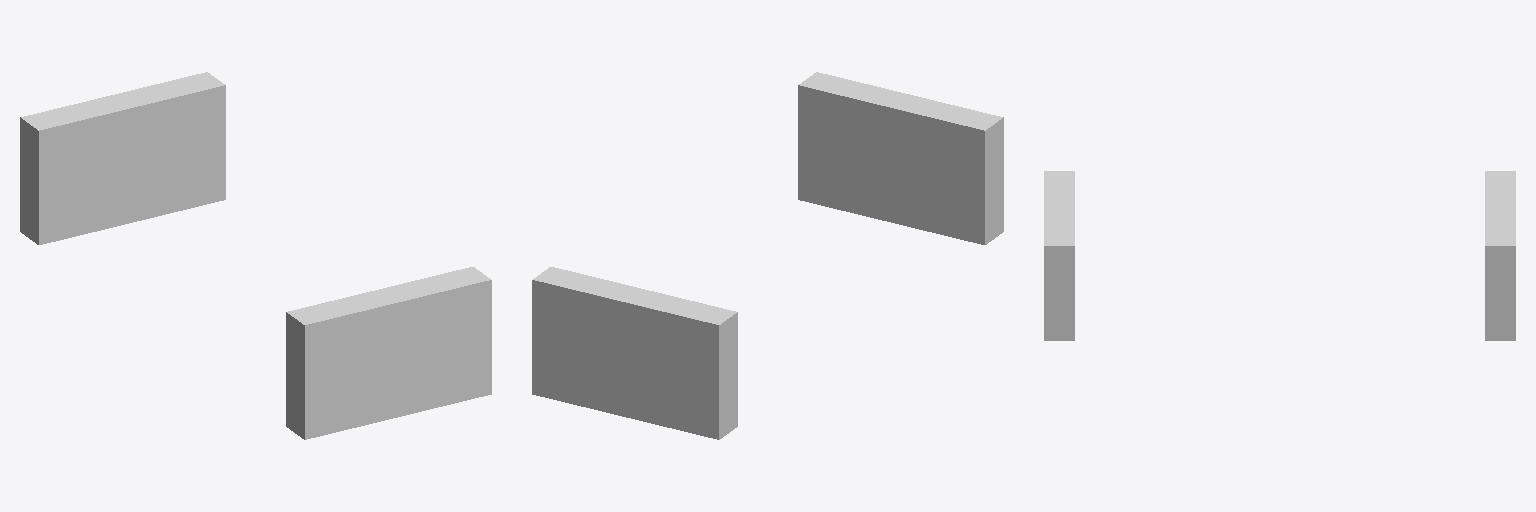
The robot description file, URDF, robot "robot":
<robot name="">
	<link name="base_link">
		<inertial>
			<origin rpy="0.00000 -0.00000 0.00000" xyz="-0.02780 0.00039 0.14035" />
			<mass value="1572.90000" />
			<inertia ixx="147.38224" ixy="0" ixz="0" iyy="202.17262" iyz="0" izz="319.78450" />
		</inertial>
		<visual>
			<origin rpy="-1.57080 0.00000 0.00000" xyz="0.00000 0.00000 0.00000" />
			<geometry>
				<mesh filename="rlbotics/envs/models/robots/kuka/kr210/meshes/kr210l150/visual/base_link.stl" scale="1.00000 1.00000 1.00000" />
			</geometry>
			<material name="0">
				<color rgba="0.05490 0.14510 0.20000 1.00000" />
			</material>
		</visual>
		<collision>
			<origin rpy="-1.57080 0.00000 0.00000" xyz="0.00000 0.00000 0.00000" />
			<geometry>
				<mesh filename="rlbotics/envs/models/robots/kuka/kr210/meshes/kr210l150/collision/base_link.stl" scale="1.00000 1.00000 1.00000" />
			</geometry>
		</collision>
	</link>
	<link name="link_1">
		<inertial>
			<origin rpy="0.00000 -0.00000 0.00000" xyz="-0.03681 -0.02470 0.56577" />
			<mass value="1385.50000" />
			<inertia ixx="150.64281" ixy="0" ixz="0" iyy="203.49709" iyz="0" izz="250.48282" />
		</inertial>
		<visual>
			<origin rpy="0.00000 -0.00000 0.00000" xyz="0.00000 0.00000 0.00000" />
			<geometry>
				<mesh filename="rlbotics/envs/models/robots/kuka/kr210/meshes/kr210l150/visual/link_1.stl" scale="1.00000 1.00000 1.00000" />
			</geometry>
			<material name="1">
				<color rgba="0.94902 0.36078 0.09804 1.00000" />
			</material>
		</visual>
		<collision>
			<origin rpy="0.00000 -0.00000 0.00000" xyz="0.00000 0.00000 0.00000" />
			<geometry>
				<mesh filename="rlbotics/envs/models/robots/kuka/kr210/meshes/kr210l150/collision/link_1.stl" scale="1.00000 1.00000 1.00000" />
			</geometry>
		</collision>
	</link>
	<link name="link_2">
		<inertial>
			<origin rpy="0.00000 -0.00000 0.00000" xyz="0.01692 -0.19196 0.44751" />
			<mass value="958.62000" />
			<inertia ixx="242.63225" ixy="0" ixz="0" iyy="241.46543" iyz="0" izz="38.45678" />
		</inertial>
		<visual>
			<origin rpy="-1.57080 0.00000 0.00000" xyz="0.00000 0.00000 0.00000" />
			<geometry>
				<mesh filename="rlbotics/envs/models/robots/kuka/kr210/meshes/kr210l150/visual/link_2.stl" scale="1.00000 1.00000 1.00000" />
			</geometry>
			<material name="2">
				<color rgba="0.94902 0.36078 0.09804 1.00000" />
			</material>
		</visual>
		<collision>
			<origin rpy="0.00000 -0.00000 0.00000" xyz="0.00000 0.00000 0.00000" />
			<geometry>
				<mesh filename="rlbotics/envs/models/robots/kuka/kr210/meshes/kr210l150/collision/link_2.stl" scale="1.00000 1.00000 1.00000" />
			</geometry>
		</collision>
	</link>
	<link name="link_3">
		<inertial>
			<origin rpy="0.00000 -0.00000 0.00000" xyz="0.18842 0.18344 -0.04280" />
			<mass value="710.03000" />
			<inertia ixx="31.03103" ixy="0" ixz="0" iyy="128.15244" iyz="0" izz="124.72848" />
		</inertial>
		<visual>
			<origin rpy="-1.57080 0.00000 0.00000" xyz="0.00000 0.00000 0.00000" />
			<geometry>
				<mesh filename="rlbotics/envs/models/robots/kuka/kr210/meshes/kr210l150/visual/link_3.stl" scale="1.00000 1.00000 1.00000" />
			</geometry>
			<material name="3">
				<color rgba="0.94902 0.36078 0.09804 1.00000" />
			</material>
		</visual>
		<collision>
			<origin rpy="0.00000 -0.00000 0.00000" xyz="0.00000 0.00000 0.00000" />
			<geometry>
				<mesh filename="rlbotics/envs/models/robots/kuka/kr210/meshes/kr210l150/collision/link_3.stl" scale="1.00000 1.00000 1.00000" />
			</geometry>
		</collision>
	</link>
	<link name="link_4">
		<inertial>
			<origin rpy="0.00000 -0.00000 0.00000" xyz="0.27146 -0.00733 0.00005" />
			<mass value="173.73000" />
			<inertia ixx="2.59544" ixy="0" ixz="0" iyy="7.06362" iyz="0" izz="7.87822" />
		</inertial>
		<visual>
			<origin rpy="-1.57080 0.00000 0.00000" xyz="0.00000 0.00000 0.00000" />
			<geometry>
				<mesh filename="rlbotics/envs/models/robots/kuka/kr210/meshes/kr210l150/visual/link_4.stl" scale="1.00000 1.00000 1.00000" />
			</geometry>
			<material name="4">
				<color rgba="0.94902 0.36078 0.09804 1.00000" />
			</material>
		</visual>
		<collision>
			<origin rpy="0.00000 -0.00000 0.00000" xyz="0.00000 0.00000 0.00000" />
			<geometry>
				<mesh filename="rlbotics/envs/models/robots/kuka/kr210/meshes/kr210l150/collision/link_4.stl" scale="1.00000 1.00000 1.00000" />
			</geometry>
		</collision>
	</link>
	<link name="link_5">
		<inertial>
			<origin rpy="0.00000 -0.00000 0.00000" xyz="0.04379 0.02598 0.00000" />
			<mass value="72.17000" />
			<inertia ixx="0.72730" ixy="0" ixz="0" iyy="0.97404" iyz="0" izz="0.97344" />
		</inertial>
		<visual>
			<origin rpy="-1.57080 0.00000 0.00000" xyz="0.00000 0.00000 0.00000" />
			<geometry>
				<mesh filename="rlbotics/envs/models/robots/kuka/kr210/meshes/kr210l150/visual/link_5.stl" scale="1.00000 1.00000 1.00000" />
			</geometry>
			<material name="5">
				<color rgba="0.94902 0.36078 0.09804 1.00000" />
			</material>
		</visual>
		<collision>
			<origin rpy="0.00000 -0.00000 0.00000" xyz="0.00000 0.00000 0.00000" />
			<geometry>
				<mesh filename="rlbotics/envs/models/robots/kuka/kr210/meshes/kr210l150/collision/link_5.stl" scale="1.00000 1.00000 1.00000" />
			</geometry>
		</collision>
	</link>
	<link name="link_6">
		<inertial>
			<origin rpy="0.00000 -0.00000 0.00000" xyz="-0.01796 -0.00002 0.00015" />
			<mass value="6.31540" />
			<inertia ixx="0.04370" ixy="0" ixz="0" iyy="0.02283" iyz="0" izz="0.02286" />
		</inertial>
		<visual>
			<origin rpy="0.00000 -0.00000 0.00000" xyz="0.00000 0.00000 0.00000" />
			<geometry>
				<mesh filename="rlbotics/envs/models/robots/kuka/kr210/meshes/kr210l150/visual/link_6.stl" scale="1.00000 1.00000 1.00000" />
			</geometry>
			<material name="6">
				<color rgba="0.75294 0.75294 0.75294 1.00000" />
			</material>
		</visual>
		<collision>
			<origin rpy="0.00000 -0.00000 0.00000" xyz="0.00000 0.00000 0.00000" />
			<geometry>
				<mesh filename="rlbotics/envs/models/robots/kuka/kr210/meshes/kr210l150/collision/link_6.stl" scale="1.00000 1.00000 1.00000" />
			</geometry>
		</collision>
	</link>
	<link name="tool0">
		<inertial>
			<origin rpy="0.00000 -0.00000 0.00000" xyz="0.00000 0.00000 0.00000" />
			<mass value="1.00000" />
			<inertia ixx="0.00000" ixy="0" ixz="0" iyy="0.00000" iyz="0" izz="0.00000" />
		</inertial>
	</link>
	<link name="Link1">
		<inertial>
			<origin rpy="0.00000 -0.00000 0.00000" xyz="0.00000 0.00000 0.00000" />
			<mass value="1.00000" />
			<inertia ixx="0.00000" ixy="0" ixz="0" iyy="0.00000" iyz="0" izz="0.00000" />
		</inertial>
	</link>
	<link name="robotiq_arg2f_base_link">
		<inertial>
			<origin rpy="0.00000 -0.00000 0.00000" xyz="0.00000 -0.00000 0.03145" />
			<mass value="0.22652" />
			<inertia ixx="0.00034" ixy="0" ixz="0" iyy="0.00031" iyz="0" izz="0.00028" />
		</inertial>
		<visual>
			<origin rpy="0.00000 -0.00000 0.00000" xyz="0.00000 0.00000 0.00000" />
			<geometry>
				<mesh filename="rlbotics/envs/models/end_effectors/robotiq/robotiq_2f_85/meshes/visual/robotiq_arg2f_85_base_link.dae" scale="0.00100 0.00100 0.00100" />
			</geometry>
			<material name="7">
				<color rgba="0.10000 0.10000 0.10000 1.00000" />
			</material>
		</visual>
		<collision>
			<origin rpy="0.00000 -0.00000 0.00000" xyz="0.00000 0.00000 0.00000" />
			<geometry>
				<mesh filename="rlbotics/envs/models/end_effectors/robotiq/robotiq_2f_85/meshes/collision/robotiq_arg2f_base_link.stl" scale="1.00000 1.00000 1.00000" />
			</geometry>
		</collision>
	</link>
	<link name="left_outer_knuckle">
		<inertial>
			<origin rpy="0.00000 -0.00000 0.00000" xyz="0.00000 0.00000 0.00000" />
			<mass value="1.00000" />
			<inertia ixx="0.00030" ixy="0" ixz="0" iyy="0.00014" iyz="0" izz="0.00030" />
		</inertial>
		<visual>
			<origin rpy="0.00000 -0.00000 0.00000" xyz="0.00000 0.00000 0.00000" />
			<geometry>
				<mesh filename="rlbotics/envs/models/end_effectors/robotiq/robotiq_2f_85/meshes/visual/robotiq_arg2f_85_outer_knuckle.dae" scale="0.00100 0.00100 0.00100" />
			</geometry>
			<material name="8">
				<color rgba="0.79216 0.81961 0.93333 1.00000" />
			</material>
		</visual>
		<collision>
			<origin rpy="0.00000 -0.00000 0.00000" xyz="0.00000 0.00000 0.00000" />
			<geometry>
				<mesh filename="rlbotics/envs/models/end_effectors/robotiq/robotiq_2f_85/meshes/collision/robotiq_arg2f_85_outer_knuckle.dae" scale="0.00100 0.00100 0.00100" />
			</geometry>
		</collision>
	</link>
	<link name="left_outer_finger">
		<inertial>
			<origin rpy="0.00000 -0.00000 0.00000" xyz="0.00000 0.00000 0.00000" />
			<mass value="1.00000" />
			<inertia ixx="0.00040" ixy="0" ixz="0" iyy="0.00044" iyz="0" izz="0.00014" />
		</inertial>
		<visual>
			<origin rpy="0.00000 -0.00000 0.00000" xyz="0.00000 0.00000 0.00000" />
			<geometry>
				<mesh filename="rlbotics/envs/models/end_effectors/robotiq/robotiq_2f_85/meshes/visual/robotiq_arg2f_85_outer_finger.dae" scale="0.00100 0.00100 0.00100" />
			</geometry>
			<material name="9">
				<color rgba="0.10000 0.10000 0.10000 1.00000" />
			</material>
		</visual>
		<collision>
			<origin rpy="0.00000 -0.00000 0.00000" xyz="0.00000 0.00000 0.00000" />
			<geometry>
				<mesh filename="rlbotics/envs/models/end_effectors/robotiq/robotiq_2f_85/meshes/collision/robotiq_arg2f_85_outer_finger.dae" scale="0.00100 0.00100 0.00100" />
			</geometry>
		</collision>
	</link>
	<link name="left_inner_finger">
		<inertial>
			<origin rpy="0.00000 -0.00000 0.00000" xyz="0.00000 0.00000 0.00000" />
			<mass value="1.00000" />
			<inertia ixx="0.00037" ixy="0" ixz="0" iyy="0.00030" iyz="0" izz="0.00014" />
		</inertial>
		<visual>
			<origin rpy="0.00000 -0.00000 0.00000" xyz="0.00000 0.00000 0.00000" />
			<geometry>
				<mesh filename="rlbotics/envs/models/end_effectors/robotiq/robotiq_2f_85/meshes/visual/robotiq_arg2f_85_inner_finger.dae" scale="0.00100 0.00100 0.00100" />
			</geometry>
			<material name="10">
				<color rgba="0.10000 0.10000 0.10000 1.00000" />
			</material>
		</visual>
		<collision>
			<origin rpy="0.00000 -0.00000 0.00000" xyz="0.00000 0.00000 0.00000" />
			<geometry>
				<mesh filename="rlbotics/envs/models/end_effectors/robotiq/robotiq_2f_85/meshes/collision/robotiq_arg2f_85_inner_finger.dae" scale="0.00100 0.00100 0.00100" />
			</geometry>
		</collision>
	</link>
	<link name="left_inner_finger_pad">
		<inertial>
			<origin rpy="0.00000 -0.00000 0.00000" xyz="0.00000 0.00000 0.00000" />
			<mass value="1.00000" />
			<inertia ixx="0.00012" ixy="0" ixz="0" iyy="0.00016" iyz="0" izz="0.00004" />
		</inertial>
		<visual>
			<origin rpy="0.00000 -0.00000 0.00000" xyz="0.00000 0.00000 0.00000" />
			<geometry>
				<box size="0.02200 0.00635 0.03750" />
			</geometry>
			<material name="11">
				<color rgba="0.90000 0.90000 0.90000 1.00000" />
			</material>
		</visual>
		<collision>
			<origin rpy="0.00000 -0.00000 0.00000" xyz="0.00000 0.00000 0.00000" />
			<geometry>
				<box size="0.02200 0.00635 0.03750" />
			</geometry>
		</collision>
	</link>
	<link name="left_inner_knuckle">
		<inertial>
			<origin rpy="0.00000 -0.00000 0.00000" xyz="0.00000 0.00000 0.00000" />
			<mass value="1.00000" />
			<inertia ixx="0.00057" ixy="0" ixz="0" iyy="0.00048" iyz="0" izz="0.00042" />
		</inertial>
		<visual>
			<origin rpy="0.00000 -0.00000 0.00000" xyz="0.00000 0.00000 0.00000" />
			<geometry>
				<mesh filename="rlbotics/envs/models/end_effectors/robotiq/robotiq_2f_85/meshes/visual/robotiq_arg2f_85_inner_knuckle.dae" scale="0.00100 0.00100 0.00100" />
			</geometry>
			<material name="12">
				<color rgba="0.10000 0.10000 0.10000 1.00000" />
			</material>
		</visual>
		<collision>
			<origin rpy="0.00000 -0.00000 0.00000" xyz="0.00000 0.00000 0.00000" />
			<geometry>
				<mesh filename="rlbotics/envs/models/end_effectors/robotiq/robotiq_2f_85/meshes/collision/robotiq_arg2f_85_inner_knuckle.dae" scale="0.00100 0.00100 0.00100" />
			</geometry>
		</collision>
	</link>
	<link name="right_outer_knuckle">
		<inertial>
			<origin rpy="0.00000 -0.00000 0.00000" xyz="0.00000 0.00000 0.00000" />
			<mass value="1.00000" />
			<inertia ixx="0.00030" ixy="0" ixz="0" iyy="0.00014" iyz="0" izz="0.00030" />
		</inertial>
		<visual>
			<origin rpy="0.00000 -0.00000 0.00000" xyz="0.00000 0.00000 0.00000" />
			<geometry>
				<mesh filename="rlbotics/envs/models/end_effectors/robotiq/robotiq_2f_85/meshes/visual/robotiq_arg2f_85_outer_knuckle.dae" scale="0.00100 0.00100 0.00100" />
			</geometry>
			<material name="13">
				<color rgba="0.79216 0.81961 0.93333 1.00000" />
			</material>
		</visual>
		<collision>
			<origin rpy="0.00000 -0.00000 0.00000" xyz="0.00000 0.00000 0.00000" />
			<geometry>
				<mesh filename="rlbotics/envs/models/end_effectors/robotiq/robotiq_2f_85/meshes/collision/robotiq_arg2f_85_outer_knuckle.dae" scale="0.00100 0.00100 0.00100" />
			</geometry>
		</collision>
	</link>
	<link name="right_outer_finger">
		<inertial>
			<origin rpy="0.00000 -0.00000 0.00000" xyz="0.00000 0.00000 0.00000" />
			<mass value="1.00000" />
			<inertia ixx="0.00040" ixy="0" ixz="0" iyy="0.00044" iyz="0" izz="0.00014" />
		</inertial>
		<visual>
			<origin rpy="0.00000 -0.00000 0.00000" xyz="0.00000 0.00000 0.00000" />
			<geometry>
				<mesh filename="rlbotics/envs/models/end_effectors/robotiq/robotiq_2f_85/meshes/visual/robotiq_arg2f_85_outer_finger.dae" scale="0.00100 0.00100 0.00100" />
			</geometry>
			<material name="14">
				<color rgba="0.10000 0.10000 0.10000 1.00000" />
			</material>
		</visual>
		<collision>
			<origin rpy="0.00000 -0.00000 0.00000" xyz="0.00000 0.00000 0.00000" />
			<geometry>
				<mesh filename="rlbotics/envs/models/end_effectors/robotiq/robotiq_2f_85/meshes/collision/robotiq_arg2f_85_outer_finger.dae" scale="0.00100 0.00100 0.00100" />
			</geometry>
		</collision>
	</link>
	<link name="right_inner_finger">
		<inertial>
			<origin rpy="0.00000 -0.00000 0.00000" xyz="0.00000 0.00000 0.00000" />
			<mass value="1.00000" />
			<inertia ixx="0.00037" ixy="0" ixz="0" iyy="0.00030" iyz="0" izz="0.00014" />
		</inertial>
		<visual>
			<origin rpy="0.00000 -0.00000 0.00000" xyz="0.00000 0.00000 0.00000" />
			<geometry>
				<mesh filename="rlbotics/envs/models/end_effectors/robotiq/robotiq_2f_85/meshes/visual/robotiq_arg2f_85_inner_finger.dae" scale="0.00100 0.00100 0.00100" />
			</geometry>
			<material name="15">
				<color rgba="0.10000 0.10000 0.10000 1.00000" />
			</material>
		</visual>
		<collision>
			<origin rpy="0.00000 -0.00000 0.00000" xyz="0.00000 0.00000 0.00000" />
			<geometry>
				<mesh filename="rlbotics/envs/models/end_effectors/robotiq/robotiq_2f_85/meshes/collision/robotiq_arg2f_85_inner_finger.dae" scale="0.00100 0.00100 0.00100" />
			</geometry>
		</collision>
	</link>
	<link name="right_inner_finger_pad">
		<inertial>
			<origin rpy="0.00000 -0.00000 0.00000" xyz="0.00000 0.00000 0.00000" />
			<mass value="1.00000" />
			<inertia ixx="0.00012" ixy="0" ixz="0" iyy="0.00016" iyz="0" izz="0.00004" />
		</inertial>
		<visual>
			<origin rpy="0.00000 -0.00000 0.00000" xyz="0.00000 0.00000 0.00000" />
			<geometry>
				<box size="0.02200 0.00635 0.03750" />
			</geometry>
			<material name="16">
				<color rgba="0.90000 0.90000 0.90000 1.00000" />
			</material>
		</visual>
		<collision>
			<origin rpy="0.00000 -0.00000 0.00000" xyz="0.00000 0.00000 0.00000" />
			<geometry>
				<box size="0.02200 0.00635 0.03750" />
			</geometry>
		</collision>
	</link>
	<link name="right_inner_knuckle">
		<inertial>
			<origin rpy="0.00000 -0.00000 0.00000" xyz="0.00000 0.00000 0.00000" />
			<mass value="1.00000" />
			<inertia ixx="0.00057" ixy="0" ixz="0" iyy="0.00048" iyz="0" izz="0.00042" />
		</inertial>
		<visual>
			<origin rpy="0.00000 -0.00000 0.00000" xyz="0.00000 0.00000 0.00000" />
			<geometry>
				<mesh filename="rlbotics/envs/models/end_effectors/robotiq/robotiq_2f_85/meshes/visual/robotiq_arg2f_85_inner_knuckle.dae" scale="0.00100 0.00100 0.00100" />
			</geometry>
			<material name="17">
				<color rgba="0.10000 0.10000 0.10000 1.00000" />
			</material>
		</visual>
		<collision>
			<origin rpy="0.00000 -0.00000 0.00000" xyz="0.00000 0.00000 0.00000" />
			<geometry>
				<mesh filename="rlbotics/envs/models/end_effectors/robotiq/robotiq_2f_85/meshes/collision/robotiq_arg2f_85_inner_knuckle.dae" scale="0.00100 0.00100 0.00100" />
			</geometry>
		</collision>
	</link>
	<joint name="joint_a1" type="revolute">
		<parent link="base_link" />
		<child link="link_1" />
		<dynamics damping="0.0" friction="0.0" />
		<origin rpy="0.00000 -0.00000 0.00000" xyz="-0.00262 0.00098 0.33099" />
		<axis xyz="0.00000 0.00000 1.00000" />
	<limit effort="0.0" lower="-3.2288591161895095" upper="3.2288591161895095" velocity="2.1467549799530254" /></joint>
	<joint name="joint_a2" type="revolute">
		<parent link="link_1" />
		<child link="link_2" />
		<dynamics damping="0.0" friction="0.0" />
		<origin rpy="0.00000 -0.00000 0.00000" xyz="0.35277 -0.03748 0.41920" />
		<axis xyz="0.00000 1.00000 0.00000" />
	<limit effort="0.0" lower="-0.7853981633974483" upper="1.4835298641951802" velocity="2.007128639793479" /></joint>
	<joint name="joint_a3" type="revolute">
		<parent link="link_2" />
		<child link="link_3" />
		<dynamics damping="0.0" friction="0.0" />
		<origin rpy="0.00000 -0.00000 0.00000" xyz="-0.00010 -0.14750 1.24990" />
		<axis xyz="0.00000 1.00000 0.00000" />
	<limit effort="0.0" lower="-3.6651914291880923" upper="1.1344640137963142" velocity="1.9547687622336491" /></joint>
	<joint name="joint_a4" type="revolute">
		<parent link="link_3" />
		<child link="link_4" />
		<dynamics damping="0.0" friction="0.0" />
		<origin rpy="0.00000 -0.00000 0.00000" xyz="0.95795 0.18400 -0.05506" />
		<axis xyz="1.00000 0.00000 0.00000" />
	<limit effort="0.0" lower="-6.1086523819801535" upper="6.1086523819801535" velocity="3.12413936106985" /></joint>
	<joint name="joint_a5" type="revolute">
		<parent link="link_4" />
		<child link="link_5" />
		<dynamics damping="0.0" friction="0.0" />
		<origin rpy="0.00000 -0.00000 0.00000" xyz="0.54200 0.00000 0.00000" />
		<axis xyz="0.00000 1.00000 0.00000" />
	<limit effort="0.0" lower="-2.181661564992912" upper="2.181661564992912" velocity="3.001966313430247" /></joint>
	<joint name="joint_a6" type="revolute">
		<parent link="link_5" />
		<child link="link_6" />
		<dynamics damping="0.0" friction="0.0" />
		<origin rpy="0.00000 -0.00000 0.00000" xyz="0.19250 0.00000 0.00000" />
		<axis xyz="1.00000 0.00000 0.00000" />
	<limit effort="0.0" lower="-6.1086523819801535" upper="6.1086523819801535" velocity="3.822271061867582" /></joint>
	<joint name="link_6-tool0" type="fixed">
		<parent link="link_6" />
		<child link="tool0" />
		<dynamics damping="1.0" friction="0.0001" />
		<origin rpy="0.00000 -0.00000 0.00000" xyz="0.03750 0.00000 -0.00024" />
		<axis xyz="0.00000 0.00000 0.00000" />
	</joint>
	<joint name="Link1-link_1" type="fixed">
		<parent link="link_1" />
		<child link="Link1" />
		<dynamics damping="1.0" friction="0.0001" />
		<origin rpy="0.00000 -0.00000 0.00000" xyz="0.00000 0.00000 0.00000" />
		<axis xyz="0.00000 0.00000 0.00000" />
	</joint>
	<joint name="joint_dummy1" type="fixed">
		<parent link="link_6" />
		<child link="robotiq_arg2f_base_link" />
		<dynamics damping="1.0" friction="0.0001" />
		<origin rpy="0.00000 1.57080 0.00000" xyz="0.00000 0.00000 0.00000" />
		<axis xyz="0.00000 0.00000 1.00000" />
	</joint>
	<joint name="finger_joint" type="revolute">
		<parent link="robotiq_arg2f_base_link" />
		<child link="left_outer_knuckle" />
		<dynamics damping="0.0" friction="0.0" />
		<origin rpy="0.00000 -0.00000 3.14159" xyz="0.00000 -0.03060 0.05490" />
		<axis xyz="1.00000 0.00000 0.00000" />
	<limit effort="1000.0" lower="0.0" upper="0.8" velocity="2.0" /></joint>
	<joint name="left_outer_finger_joint" type="fixed">
		<parent link="left_outer_knuckle" />
		<child link="left_outer_finger" />
		<dynamics damping="1.0" friction="0.0001" />
		<origin rpy="0.00000 -0.00000 0.00000" xyz="0.00000 0.03150 -0.00410" />
		<axis xyz="0.00000 0.00000 0.00000" />
	</joint>
	<joint name="left_inner_finger_joint" type="revolute">
		<parent link="left_outer_finger" />
		<child link="left_inner_finger" />
		<dynamics damping="0.0" friction="0.0" />
		<origin rpy="0.00000 -0.00000 0.00000" xyz="0.00000 0.00610 0.04710" />
		<axis xyz="1.00000 0.00000 0.00000" />
	<limit effort="1000.0" lower="0.0" upper="0.8757" velocity="2.0" /></joint>
	<joint name="left_inner_finger_pad_joint" type="fixed">
		<parent link="left_inner_finger" />
		<child link="left_inner_finger_pad" />
		<dynamics damping="1.0" friction="0.0001" />
		<origin rpy="0.00000 -0.00000 0.00000" xyz="0.00000 -0.02202 0.03242" />
		<axis xyz="0.00000 0.00000 0.00000" />
	</joint>
	<joint name="left_inner_knuckle_joint" type="revolute">
		<parent link="robotiq_arg2f_base_link" />
		<child link="left_inner_knuckle" />
		<dynamics damping="0.0" friction="0.0" />
		<origin rpy="0.00000 -0.00000 3.14159" xyz="0.00000 -0.01270 0.06142" />
		<axis xyz="1.00000 0.00000 0.00000" />
	<limit effort="1000.0" lower="0.0" upper="0.8757" velocity="2.0" /></joint>
	<joint name="right_outer_knuckle_joint" type="revolute">
		<parent link="robotiq_arg2f_base_link" />
		<child link="right_outer_knuckle" />
		<dynamics damping="0.0" friction="0.0" />
		<origin rpy="0.00000 -0.00000 0.00000" xyz="0.00000 0.03060 0.05490" />
		<axis xyz="1.00000 0.00000 0.00000" />
	<limit effort="1000.0" lower="0.0" upper="0.81" velocity="2.0" /></joint>
	<joint name="right_outer_finger_joint" type="fixed">
		<parent link="right_outer_knuckle" />
		<child link="right_outer_finger" />
		<dynamics damping="1.0" friction="0.0001" />
		<origin rpy="0.00000 -0.00000 0.00000" xyz="0.00000 0.03150 -0.00410" />
		<axis xyz="0.00000 0.00000 0.00000" />
	</joint>
	<joint name="right_inner_finger_joint" type="revolute">
		<parent link="right_outer_finger" />
		<child link="right_inner_finger" />
		<dynamics damping="0.0" friction="0.0" />
		<origin rpy="0.00000 -0.00000 0.00000" xyz="0.00000 0.00610 0.04710" />
		<axis xyz="1.00000 0.00000 0.00000" />
	<limit effort="1000.0" lower="0.0" upper="0.8757" velocity="2.0" /></joint>
	<joint name="right_inner_finger_pad_joint" type="fixed">
		<parent link="right_inner_finger" />
		<child link="right_inner_finger_pad" />
		<dynamics damping="1.0" friction="0.0001" />
		<origin rpy="0.00000 -0.00000 0.00000" xyz="0.00000 -0.02202 0.03242" />
		<axis xyz="0.00000 0.00000 0.00000" />
	</joint>
	<joint name="right_inner_knuckle_joint" type="revolute">
		<parent link="robotiq_arg2f_base_link" />
		<child link="right_inner_knuckle" />
		<dynamics damping="0.0" friction="0.0" />
		<origin rpy="0.00000 -0.00000 0.00000" xyz="0.00000 0.01270 0.06142" />
		<axis xyz="1.00000 0.00000 0.00000" />
	<limit effort="1000.0" lower="0.0" upper="0.8757" velocity="2.0" /></joint>
</robot>

--- What the picture shows (computed from the rendered views, not written in the file) ---
The picture shows the robot from 3 angles, left to right: view 1: azimuth 30°, elevation 25°; view 2: azimuth 150°, elevation 25°; view 3: azimuth 270°, elevation 25°; orthographic projection.
Model robot with 20 links and 19 joints (12 revolute, 7 fixed), rooted at base_link, posed all joints at 0.
Visible links, largest first — view 1: left_inner_finger_pad, right_inner_finger_pad; view 2: left_inner_finger_pad, right_inner_finger_pad; view 3: left_inner_finger_pad, right_inner_finger_pad.
Link boxes in pixels (<box>): left_inner_finger_pad: <box>286,267,491,439</box>; right_inner_finger_pad: <box>20,72,225,244</box>; left_inner_finger_pad: <box>798,72,1003,244</box>; right_inner_finger_pad: <box>532,267,737,439</box>; left_inner_finger_pad: <box>1044,171,1074,340</box>; right_inner_finger_pad: <box>1485,171,1515,340</box>.
Size in the robot's own frame: 0.0375 by 0.0987 by 0.022 metres.
0 mesh visuals loaded from 12 distinct referenced files (none loaded); not drawn: 16 (reference not matched to a file when rendering).